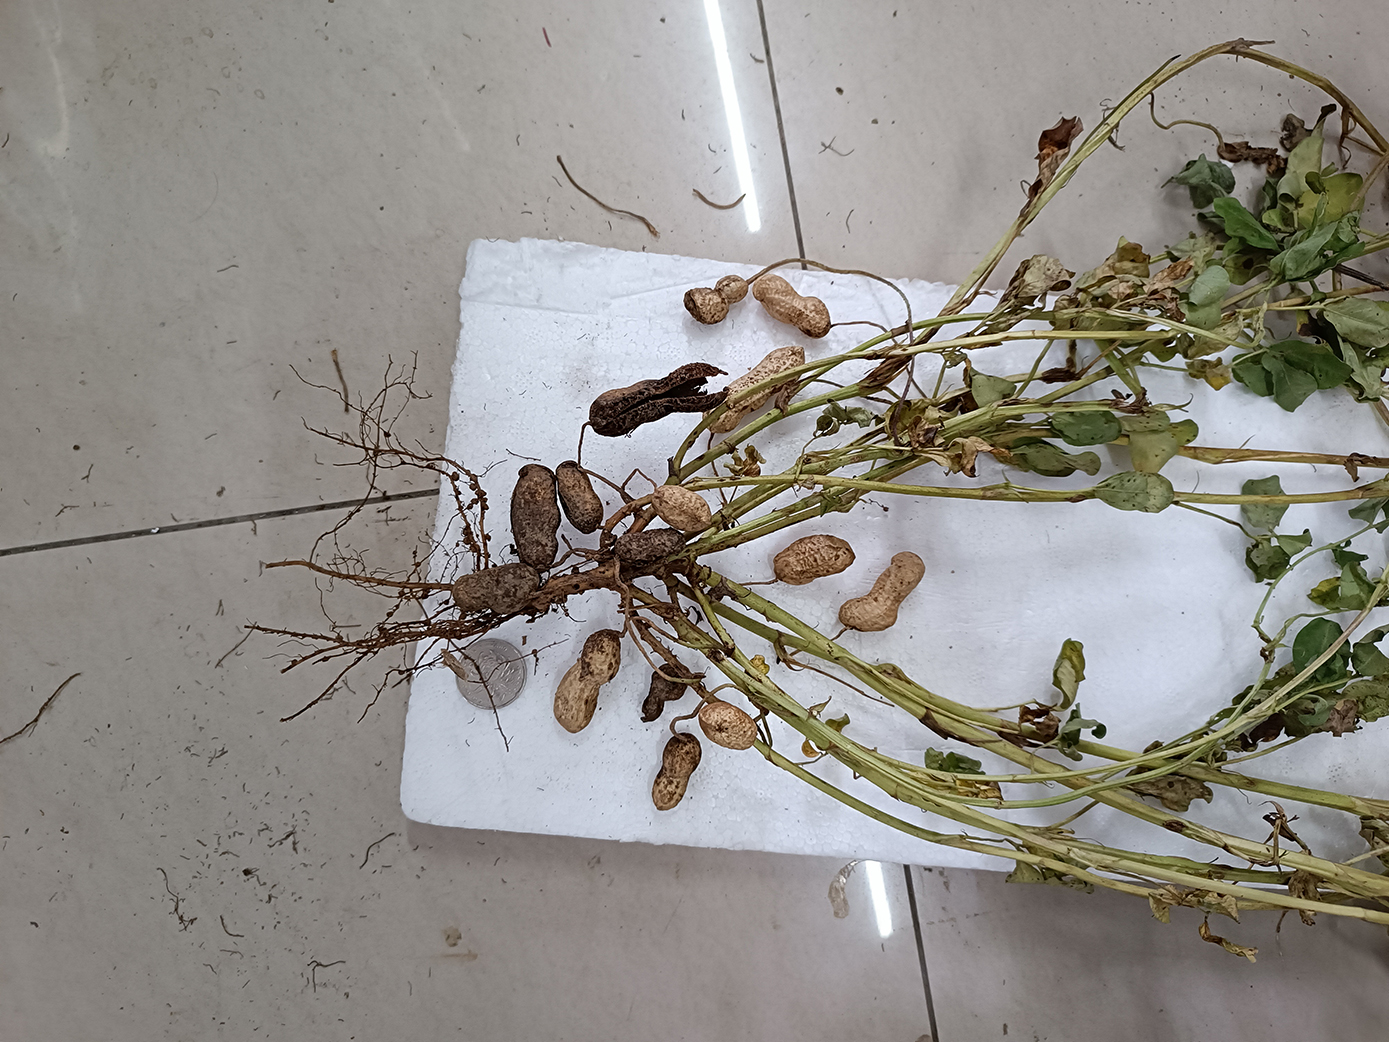h: (701, 341, 807, 435), (836, 551, 927, 632), (552, 628, 620, 736), (753, 275, 832, 338), (769, 531, 857, 586), (683, 274, 749, 324), (650, 485, 711, 532), (697, 704, 759, 751)
l: (586, 360, 729, 438), (510, 463, 562, 570), (451, 564, 541, 613), (650, 734, 702, 811), (557, 461, 604, 533), (641, 665, 690, 723), (614, 526, 681, 567)
